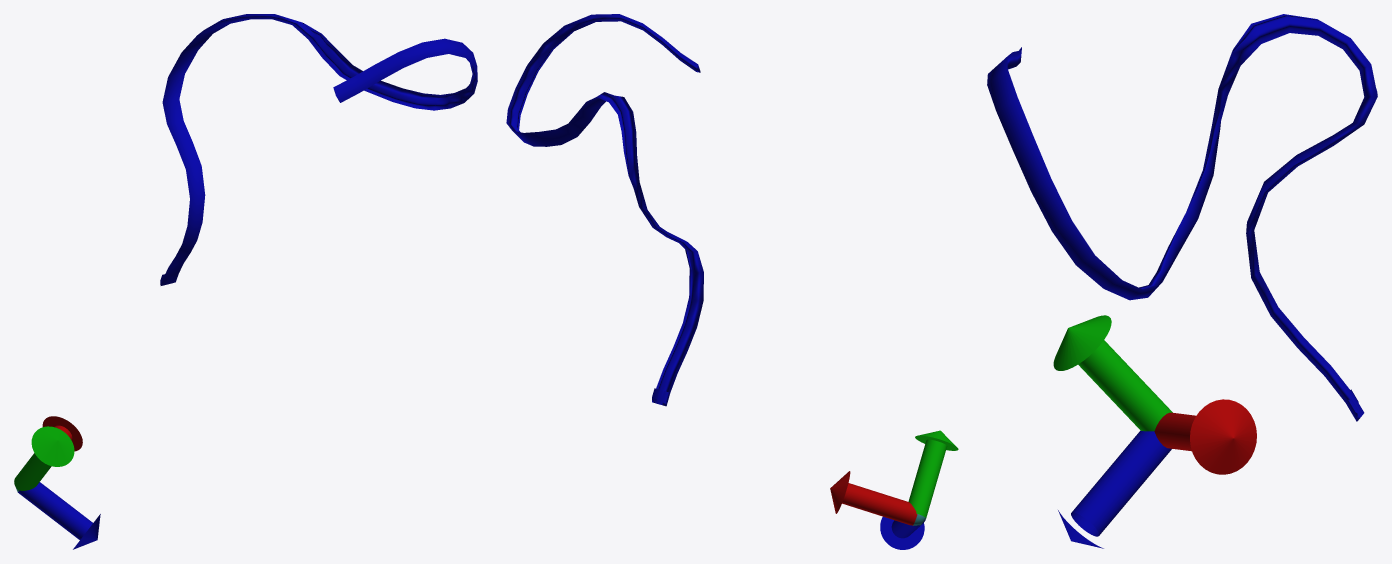
3 renders of one model, left to right at view 1: azimuth 30°, elevation 25°; view 2: azimuth 150°, elevation 25°; view 3: azimuth 270°, elevation 25°, orthographic. The views are drawn at different scales.
Visible parts, largest first — view 1: vmd_mol6_rep0, vmd_axes; view 2: vmd_mol6_rep0, vmd_axes; view 3: vmd_mol6_rep0, vmd_axes.
Boxes of the visible parts, x1=… form: vmd_mol6_rep0: x1=160, y1=14, x2=477, y2=285; vmd_axes: x1=14, y1=416, x2=100, y2=549; vmd_mol6_rep0: x1=506, y1=14, x2=703, y2=406; vmd_axes: x1=830, y1=430, x2=958, y2=549; vmd_mol6_rep0: x1=987, y1=14, x2=1377, y2=421; vmd_axes: x1=1053, y1=315, x2=1256, y2=548.
Bounding box in the file's own units: 1.39 × 1.34 × 0.6462.
